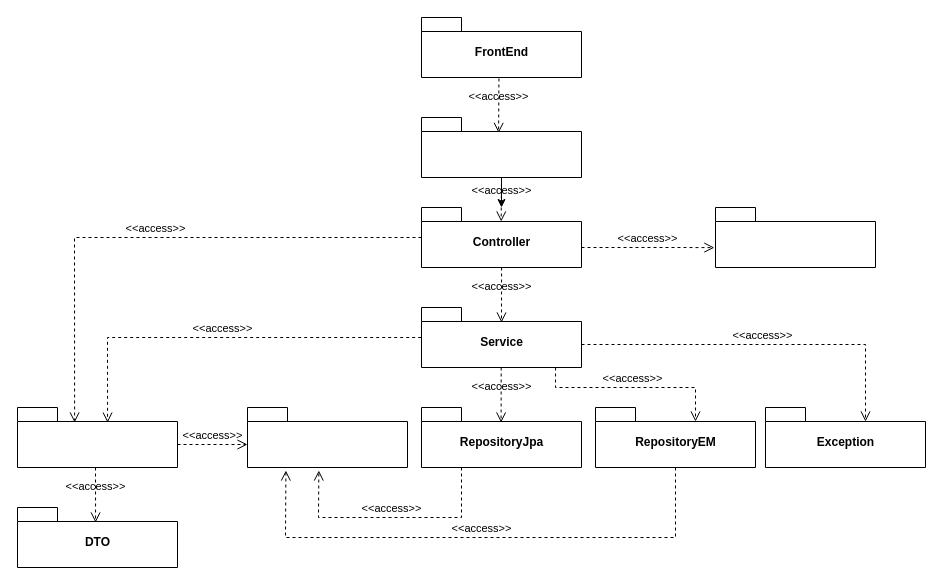
The diagram is 943 pixels wide and 585 high, and some of its shapes have lost their labels. The box of each missing label's shape, as (x1, y1, x2, y2) in pixels:
Config: (714, 206, 876, 268)
Mapper: (16, 406, 178, 468)
Model: (246, 406, 408, 468)
REST API: (420, 116, 582, 178)
